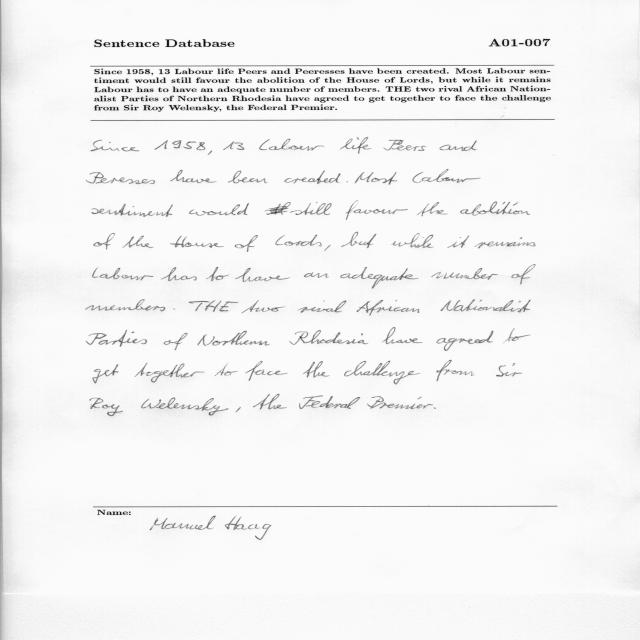word: (344, 361, 420, 385), (340, 267, 419, 288), (141, 398, 229, 416), (135, 363, 205, 383), (289, 330, 369, 345), (437, 330, 494, 351), (440, 300, 531, 313), (346, 201, 408, 220), (197, 331, 270, 346), (92, 204, 173, 217), (460, 201, 530, 216), (86, 330, 147, 347), (356, 300, 420, 316), (413, 169, 481, 183), (86, 300, 165, 312), (245, 361, 288, 381), (367, 396, 433, 409), (299, 395, 360, 409), (87, 172, 155, 184), (431, 268, 498, 280), (284, 170, 341, 184), (437, 360, 475, 381), (93, 268, 154, 281), (259, 139, 325, 151), (189, 203, 249, 216), (236, 268, 291, 282), (475, 238, 536, 249), (382, 328, 423, 344), (170, 236, 224, 248), (391, 233, 434, 248), (298, 300, 347, 313), (189, 300, 239, 312), (171, 170, 217, 183), (90, 398, 123, 416), (241, 300, 285, 313), (275, 235, 322, 247), (341, 232, 376, 248), (355, 172, 397, 185), (290, 202, 332, 215), (253, 394, 287, 410), (91, 140, 140, 151), (228, 171, 268, 184), (340, 138, 372, 154), (155, 141, 206, 151), (161, 267, 197, 281), (511, 265, 536, 285), (93, 365, 119, 384), (384, 140, 427, 151), (417, 202, 448, 216), (303, 361, 330, 377), (439, 140, 477, 151), (164, 333, 188, 350), (503, 328, 530, 343), (235, 235, 258, 252), (123, 236, 154, 248), (496, 363, 522, 377), (265, 202, 291, 215), (94, 233, 115, 249), (206, 267, 229, 281), (215, 364, 238, 376), (447, 236, 469, 248), (223, 141, 245, 150), (304, 272, 329, 278), (325, 245, 331, 251), (235, 407, 241, 412), (208, 151, 212, 155), (433, 407, 436, 409), (346, 182, 348, 183), (173, 309, 175, 310)
